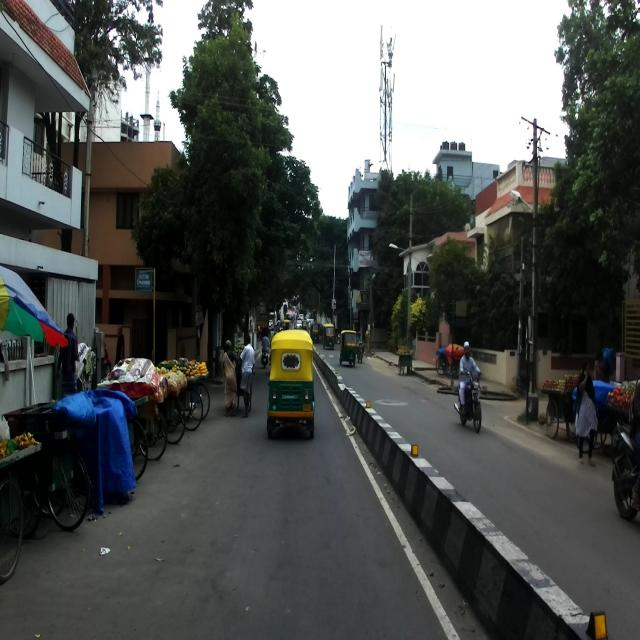autorickshaw: (266, 327, 318, 439)
motorcycle: (611, 422, 639, 521), (453, 370, 484, 434)
